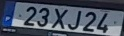2: (81, 9, 98, 33), (21, 5, 37, 26)
3: (36, 5, 50, 28)
4: (96, 12, 109, 35)
J: (66, 9, 83, 31)
X: (50, 7, 68, 30)
